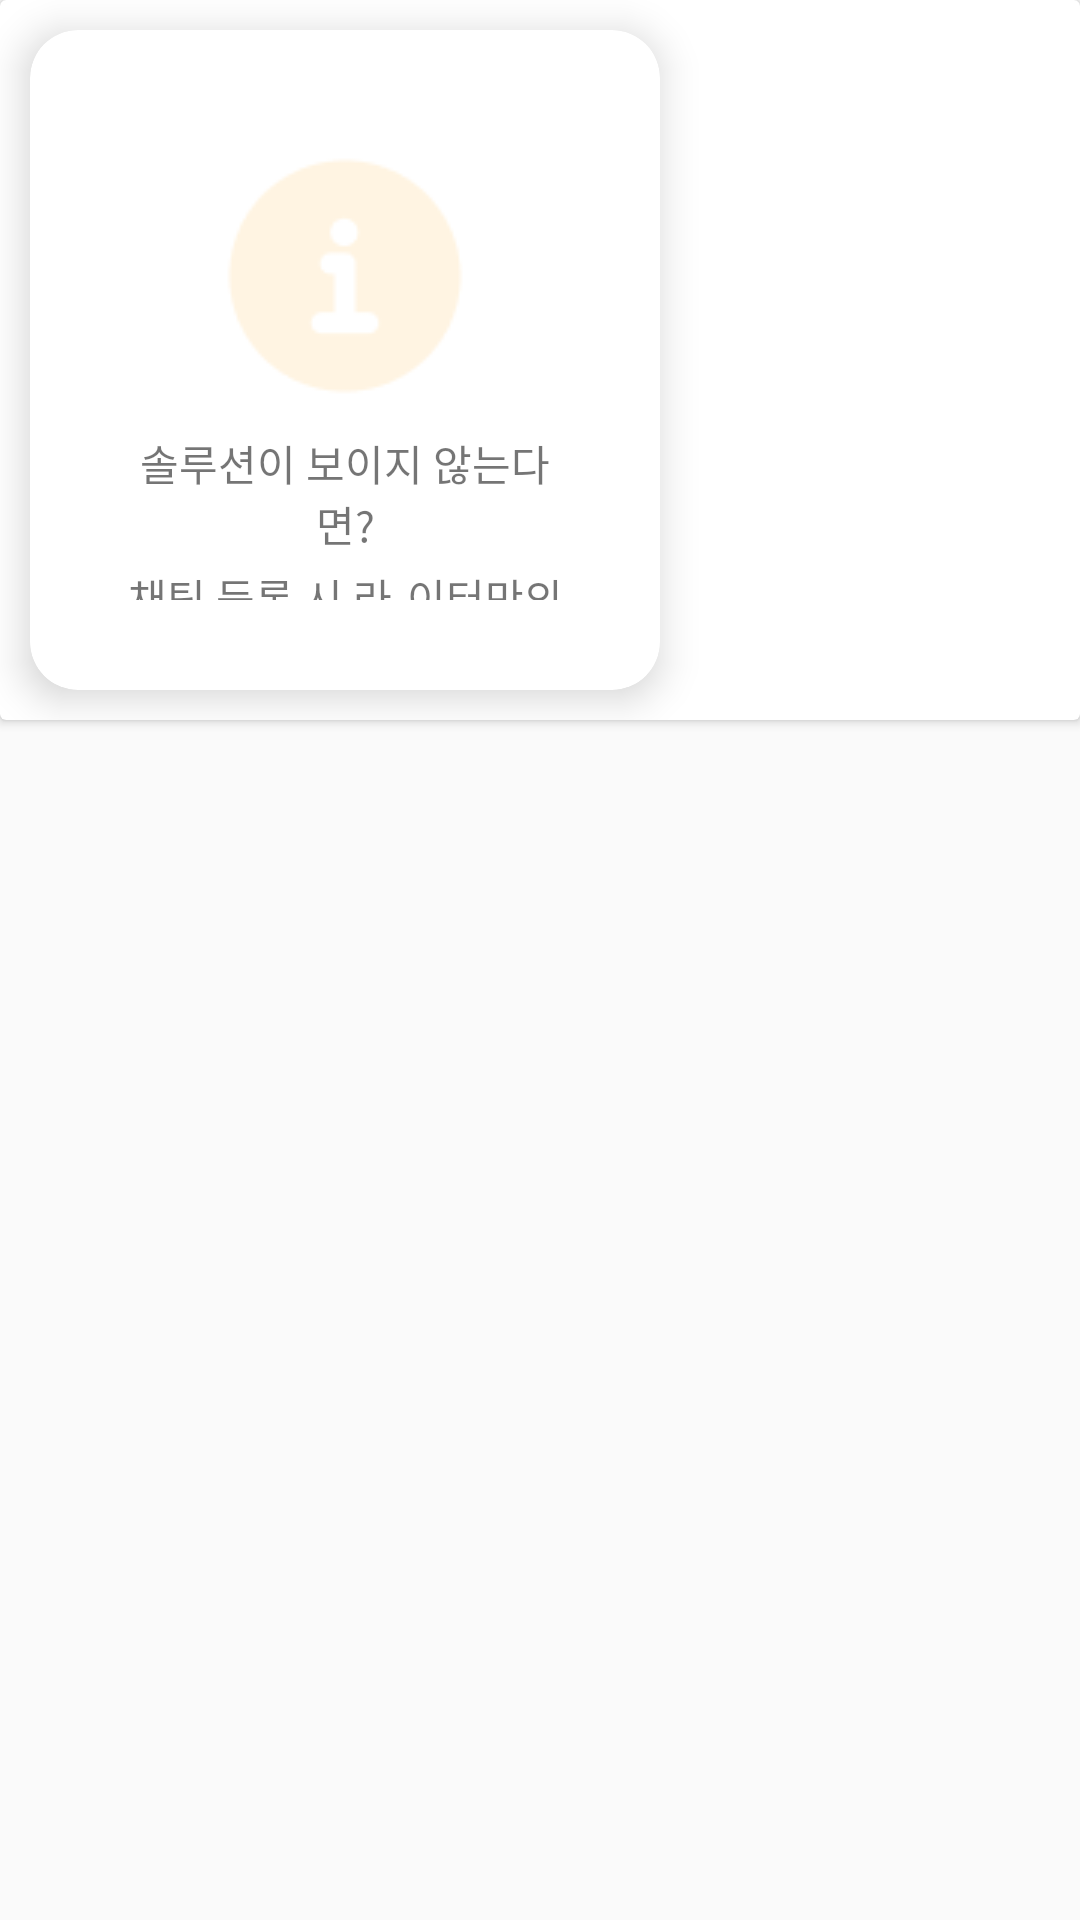

Where to tap for icons on this 1080*1920 app screen, as point (x, y):
info none: point (345, 276)
